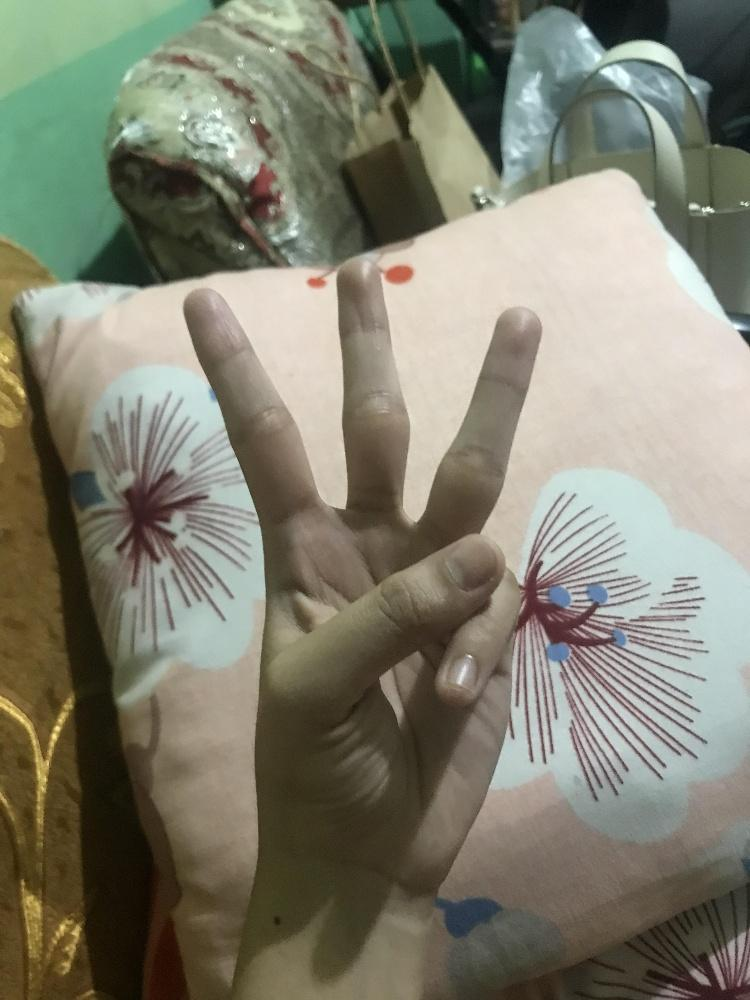w: (179, 252, 548, 902)
